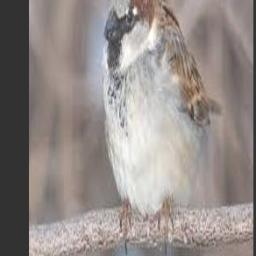Sparrow: (103, 0, 224, 255)
